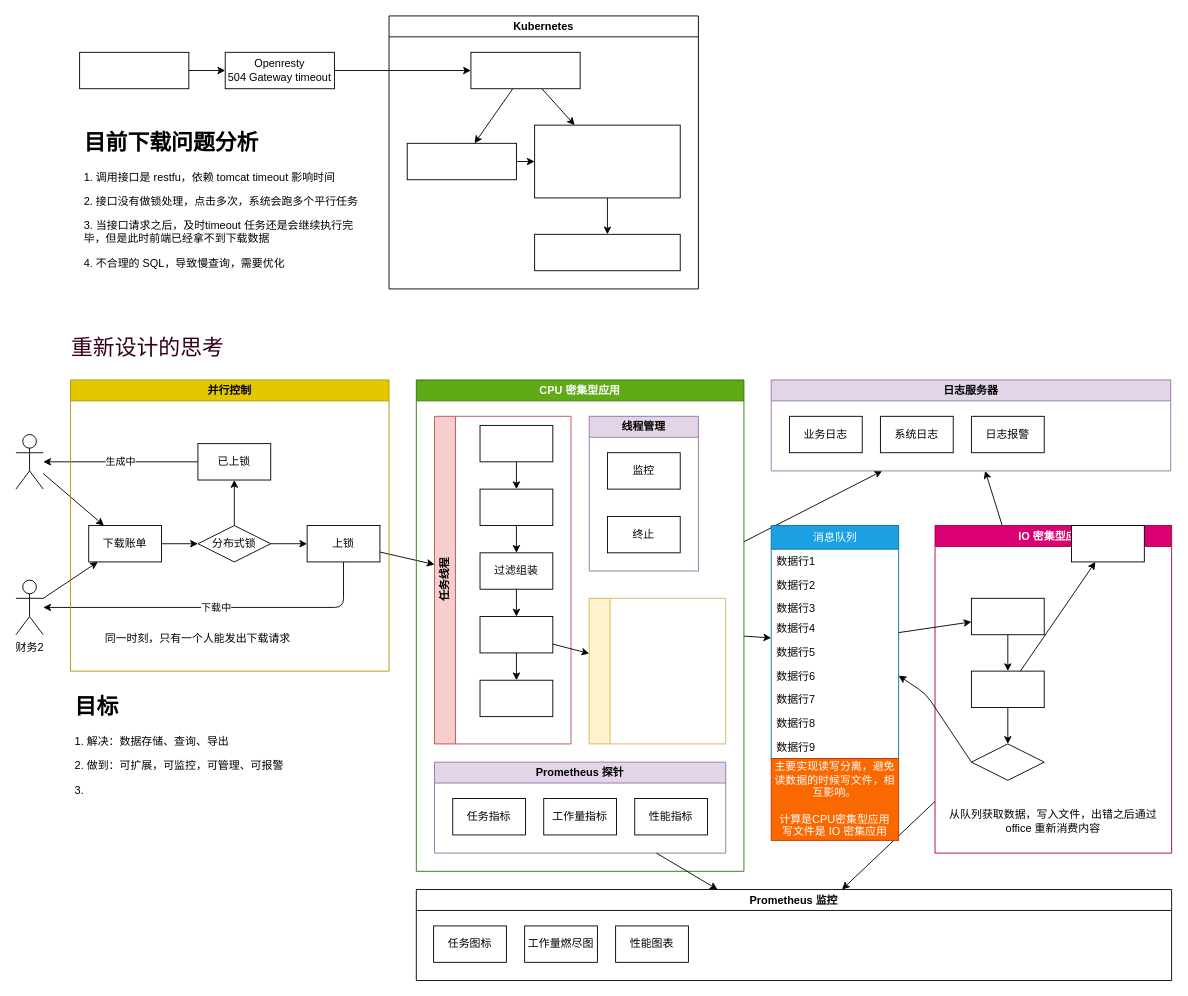
Image size: 1188x996. Some labels were removed from this diagram. Each missing label, with the centre of its shape:
ejy-finance-admin: pixel 461 161
ensd-fscs tomcat timeout: pixel 607 252
ensd-order-settle-portal tomcat timeout feign timeout ribbon timeout: pixel 607 161
Ingress 504 Gateway timeout: pixel 525 70
SLB 504 Gateway timeout: pixel 134 70
入参: pixel 516 443
写入文件: pixel 1007 689
子任务派发: pixel 516 634
工作线程池: pixel 657 670
异常: pixel 1007 761
数据输出: pixel 516 698
查询数据: pixel 516 507
消费输入: pixel 1007 616
财务1: pixel 29 461
通知状态: pixel 1107 543
